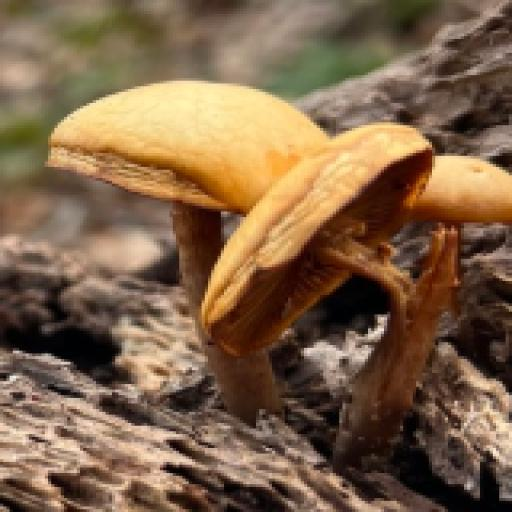mushroom: (34, 66, 512, 369)
